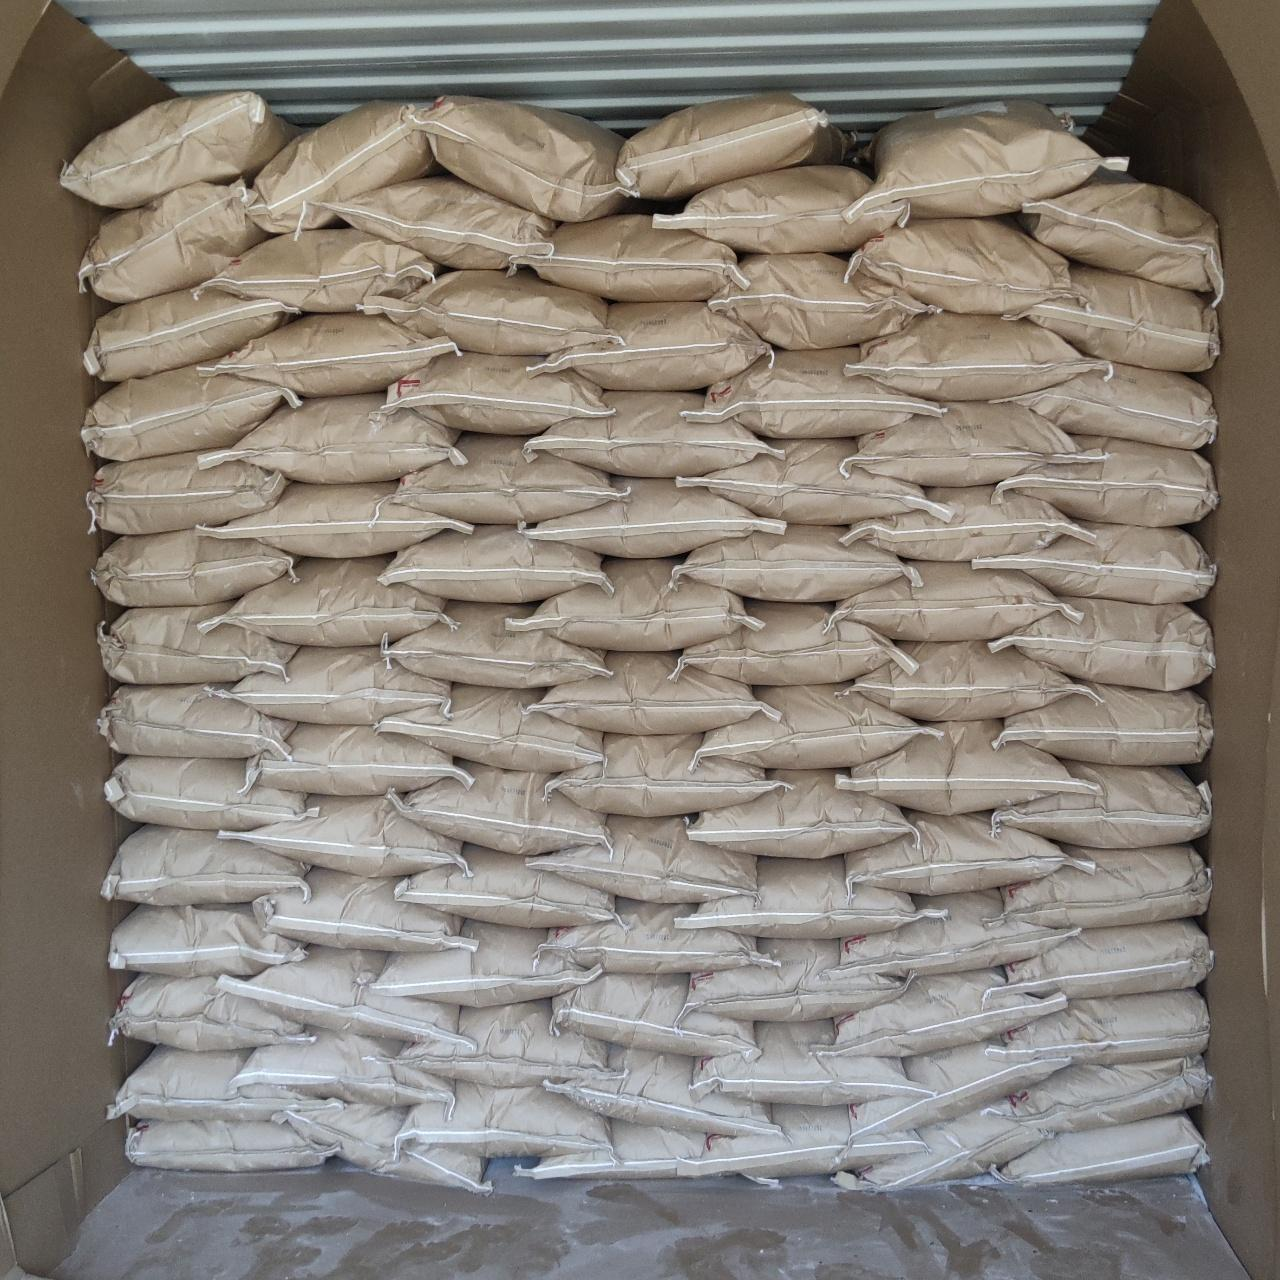sack: (852, 102, 1124, 215), (411, 96, 626, 222), (62, 91, 294, 206), (248, 102, 436, 230), (226, 946, 468, 1044), (617, 94, 844, 198), (1008, 264, 1220, 372), (1017, 181, 1223, 292), (688, 348, 940, 436), (80, 182, 263, 302), (316, 176, 552, 268), (840, 722, 1082, 812), (850, 312, 1099, 399), (656, 166, 908, 252), (847, 218, 1070, 314), (680, 440, 937, 522), (710, 254, 934, 348), (362, 270, 617, 352), (202, 314, 456, 396), (508, 560, 750, 646), (527, 392, 772, 476), (216, 394, 459, 478), (830, 890, 1074, 974), (822, 968, 1062, 1054), (520, 478, 784, 556), (392, 434, 614, 524), (508, 216, 744, 300), (82, 368, 300, 459), (527, 816, 756, 903), (846, 812, 1088, 894), (220, 794, 462, 876), (852, 1040, 1065, 1132), (974, 522, 1214, 604), (220, 556, 444, 644), (697, 685, 940, 765), (538, 304, 770, 388), (549, 1046, 770, 1133), (396, 762, 606, 855), (84, 288, 297, 380), (377, 686, 600, 772), (368, 922, 598, 1006), (377, 352, 610, 434), (212, 482, 470, 556), (200, 230, 438, 309), (678, 602, 908, 685), (847, 404, 1084, 484), (832, 561, 1078, 638), (847, 642, 1092, 719), (996, 438, 1214, 524), (536, 652, 768, 731), (688, 772, 910, 855), (1000, 600, 1212, 686), (274, 1104, 486, 1190), (549, 734, 776, 813), (386, 604, 606, 686), (394, 844, 614, 926), (996, 762, 1210, 846), (836, 1107, 1051, 1189), (686, 858, 918, 934), (996, 365, 1214, 445), (682, 940, 903, 1020), (842, 486, 1085, 558), (1000, 844, 1210, 926), (996, 685, 1212, 764), (694, 1022, 910, 1102), (400, 1002, 606, 1085), (222, 648, 445, 724), (254, 869, 464, 949), (994, 920, 1212, 998), (674, 526, 910, 598), (540, 900, 772, 972), (232, 1030, 454, 1104), (88, 452, 286, 535), (382, 527, 608, 598), (554, 974, 754, 1054), (102, 826, 308, 903), (400, 1082, 606, 1158), (100, 604, 294, 682), (990, 1114, 1206, 1184), (105, 756, 316, 828), (248, 724, 470, 792), (110, 1048, 324, 1118), (996, 990, 1206, 1062), (91, 530, 294, 604), (1002, 1056, 1210, 1126), (704, 1107, 915, 1176), (98, 686, 294, 758), (110, 974, 306, 1046), (110, 904, 302, 974), (515, 1121, 728, 1180), (125, 1121, 332, 1170)
